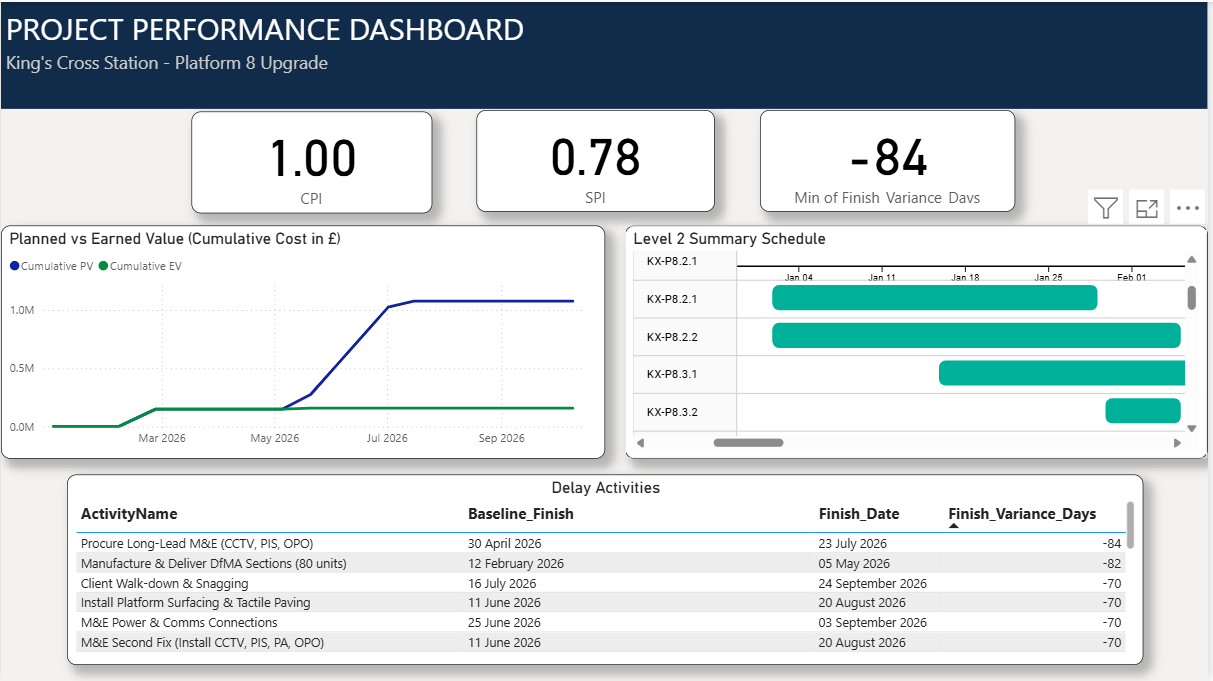

This screenshot's page, from the dashboard's own definition file:
{"tool":"powerbi","page":{"name":"Page 1","canvas":[1280,720],"ordinal":0},"visuals":[{"type":"card","fields":{"Values":["Avg(Cleaned_Project_Data.SPI)"]},"box":[504,115.1,252.9,108.2],"z":0},{"type":"card","fields":{"Values":["Avg(Cleaned_Project_Data.CPI)"]},"box":[201.5,115.5,255.1,107.7],"z":1000},{"type":"card","fields":{"Values":["Min(Cleaned_Project_Data.Finish_Variance_Days)"]},"box":[804.3,115.3,270.4,108.2],"z":2000},{"type":"shape","box":[0,0,1279.4,113.4],"z":3000},{"type":"textbox","box":[0,0,1279.4,88.8],"z":4000},{"type":"textbox","box":[0,45.4,1279.4,51],"z":5000},{"type":"lineChart","title":"Planned vs Earned Value (Cumulative Cost in £)","fields":{"Y":["Cleaned_Project_Data.Cumulative PV","Cleaned_Project_Data.Cumulative EV"],"Category":["Cleaned_Project_Data.Finish_Date"]},"box":[0,236.2,640.6,247.6],"z":6000},{"type":"Gantt1448688115699","title":"Level 2 Summary Schedule","fields":{"EndDate":["Min(Cleaned_Project_Data.Finish_Date)"],"Completion":["Sum(Cleaned_Project_Data.Percent_Complete)"],"Task":["Cleaned_Project_Data.WBS"],"StartDate":["Cleaned_Project_Data.Start_Date"]},"box":[661.4,236.2,618,247.6],"z":7000},{"type":"tableEx","title":"Delay Activities","fields":{"Values":["Cleaned_Project_Data.ActivityName","Cleaned_Project_Data.Baseline_Finish","Cleaned_Project_Data.Finish_Date","Cleaned_Project_Data.Finish_Variance_Days"]},"box":[69.9,500.8,1141.4,202.2],"z":8000}]}

Visuals, with their boxes in screenshot pixels (x1, y1, x2, y2), scaled from the page's 1280x720 canvas onto the 1213x681 screenshot:
card - Avg(Cleaned_Project_Data.SPI): 478,109,717,211
card - Avg(Cleaned_Project_Data.CPI): 191,109,433,211
card - Min(Cleaned_Project_Data.Finish_Variance_Days): 762,109,1018,211
shape: 0,0,1212,107
textbox: 0,0,1212,84
textbox: 0,43,1212,91
"Planned vs Earned Value (Cumulative Cost in £)" lineChart: 0,223,607,458
"Level 2 Summary Schedule" Gantt1448688115699: 627,223,1212,458
"Delay Activities" tableEx: 66,474,1148,665
